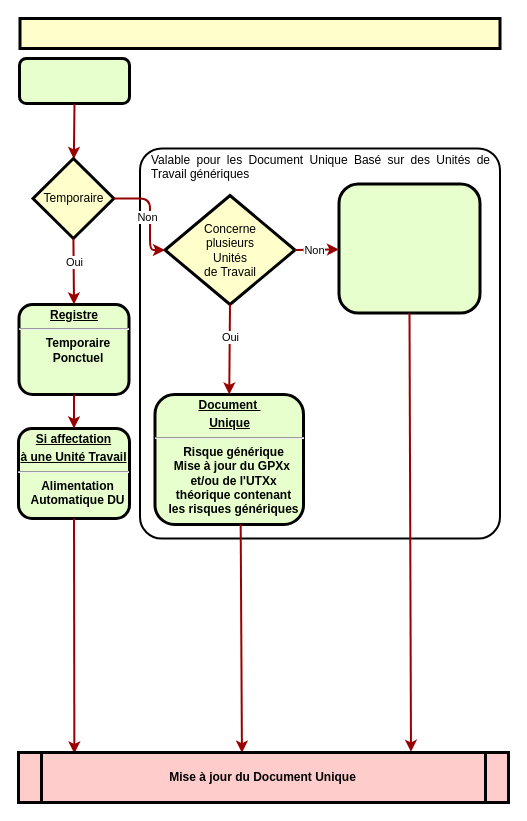
Image size: 527x821. Some labels were removed from this diagram. The shapes that lost their labels are listed below. From the top down, each one's centre as x and y in pixels, then its label:
At pixel 259 33: "Gestion d'un nouveau risque où le noter UT générique, UT Réelles ou Registre".
At pixel 74 80: "Identification d'un risque".
At pixel 409 248: "Document Unique Risque spécifique Mise à jour de l' Unité de travail réélle".
